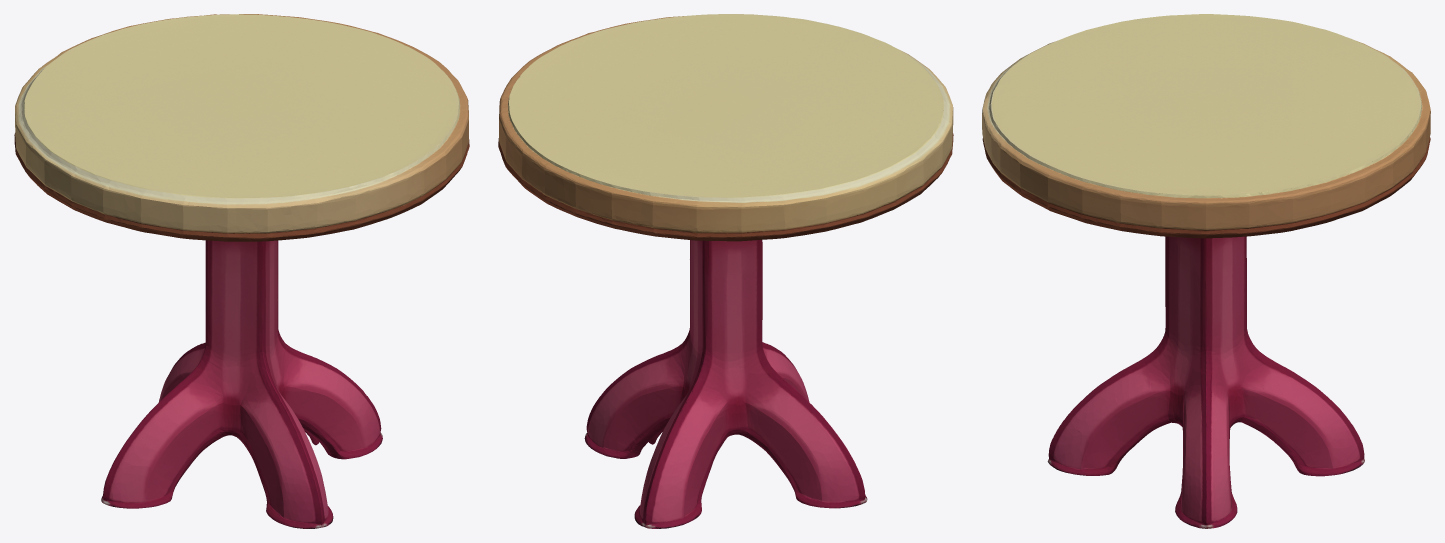
3 views of the same model, side by side, from view 1: azimuth 30°, elevation 25°; view 2: azimuth 150°, elevation 25°; view 3: azimuth 270°, elevation 25° (orthographic).
Visible parts, largest first — view 1: world; view 2: world; view 3: world.
Part boxes in pixels (<box>): world: <box>14,14,469,528</box>; world: <box>498,14,953,528</box>; world: <box>982,14,1430,528</box>.
Bounding box in the file's own units: 100 × 88.22 × 100.
Materials: 1 (1 with a texture image).
